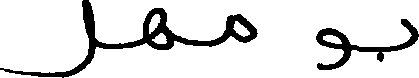ب: (368, 16, 417, 63)
ل: (0, 0, 96, 76)
م: (225, 11, 256, 42)
ه: (141, 6, 172, 50)
و: (316, 26, 350, 70)
